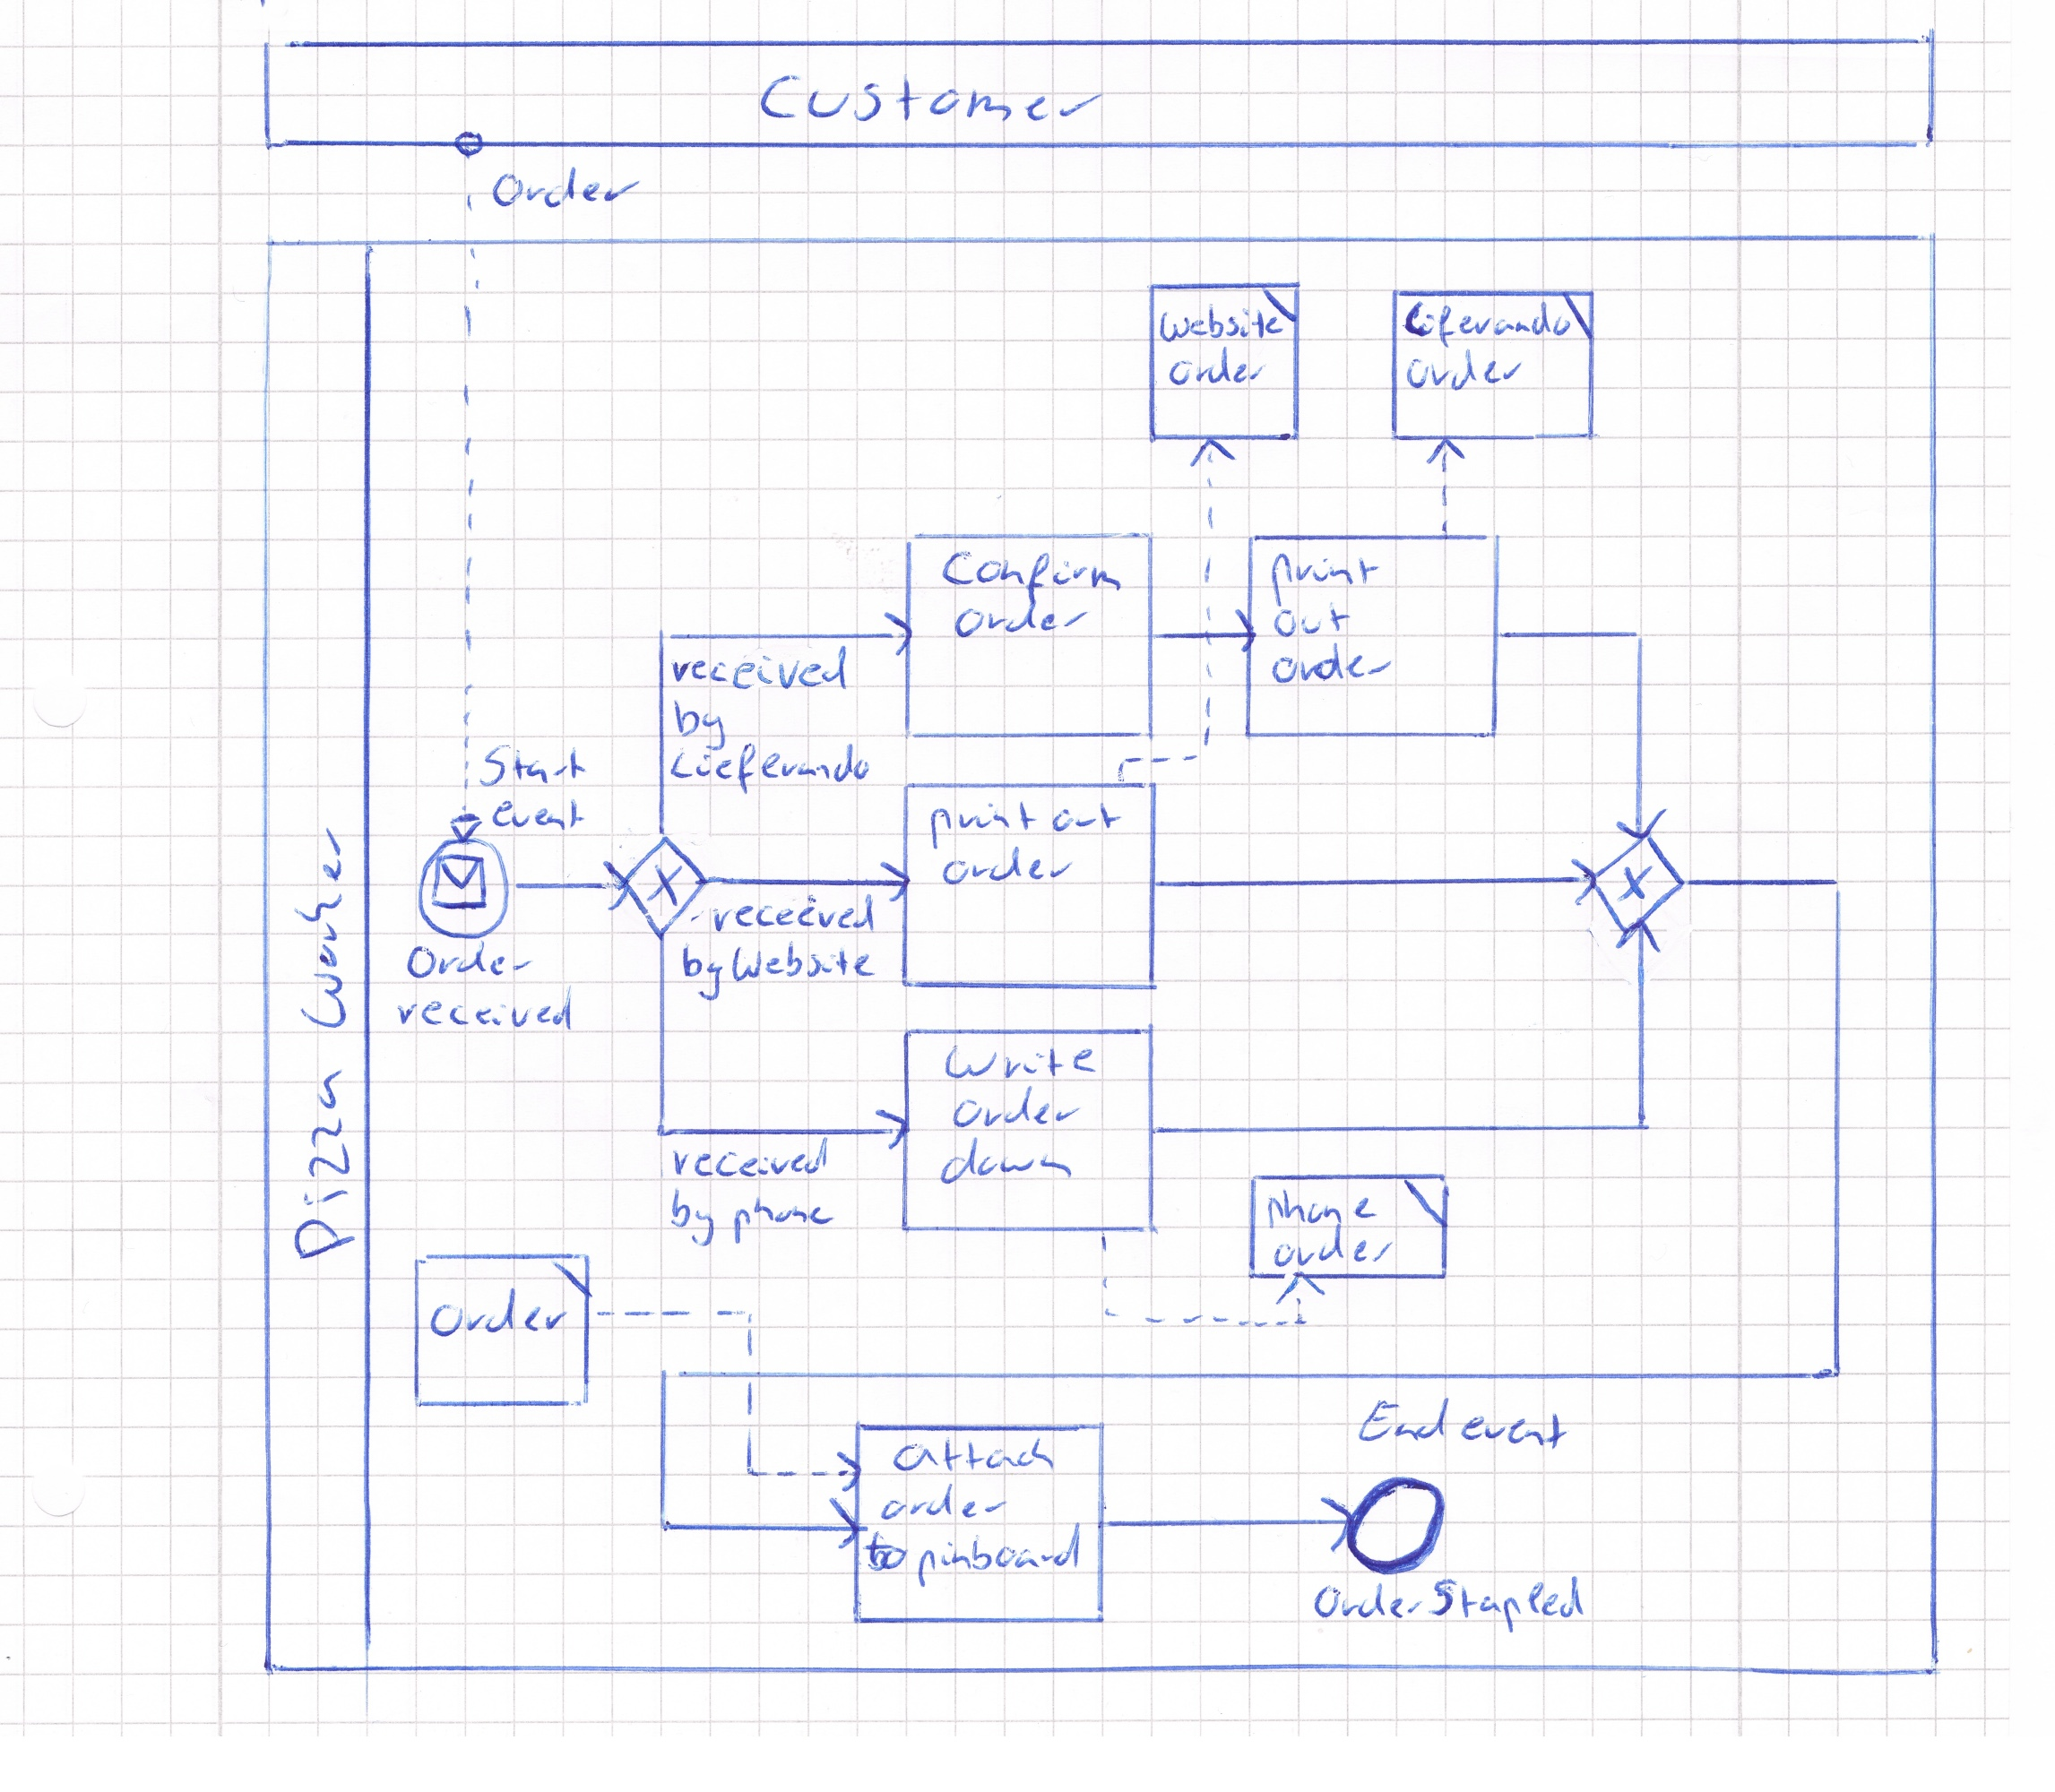Confirm: (935, 547, 1129, 599)
End: (1354, 1390, 1457, 1453)
Lieferando: (669, 748, 875, 793)
Liferando: (1396, 304, 1571, 346)
Order: (423, 1285, 573, 1345), (484, 162, 647, 210), (1305, 1577, 1424, 1624), (404, 941, 540, 982), (1171, 349, 1272, 393)
Pizza: (292, 1058, 358, 1275)
Staped: (1429, 1577, 1588, 1638)
Start: (477, 741, 587, 788)
Website: (730, 943, 884, 987), (1157, 309, 1279, 346)
attach: (891, 1434, 1059, 1479)
by: (669, 700, 734, 751), (668, 1189, 720, 1247), (678, 945, 729, 1003)
customer: (760, 65, 1106, 133)
dows: (935, 1141, 1075, 1189)
event: (1459, 1408, 1569, 1462), (493, 798, 587, 837)
order: (937, 844, 1082, 891), (951, 601, 1089, 644), (877, 1481, 1005, 1528), (949, 1088, 1085, 1130), (1269, 644, 1393, 690), (1269, 1228, 1401, 1270), (1407, 349, 1527, 395)
out: (1270, 603, 1351, 643), (1047, 802, 1125, 837)
phone: (729, 1193, 834, 1247), (1260, 1188, 1380, 1226)
pinboard: (909, 1518, 1090, 1591)
print: (1267, 550, 1382, 606), (931, 800, 1034, 849)
received: (702, 891, 882, 940), (669, 646, 855, 693), (669, 1139, 832, 1184), (391, 996, 584, 1032)
to: (861, 1530, 909, 1577)
worked: (285, 824, 358, 1032)
write: (937, 1041, 1101, 1085)
